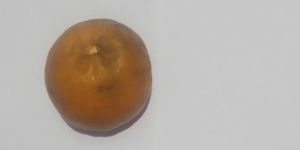BAD: (46, 18, 152, 132)
